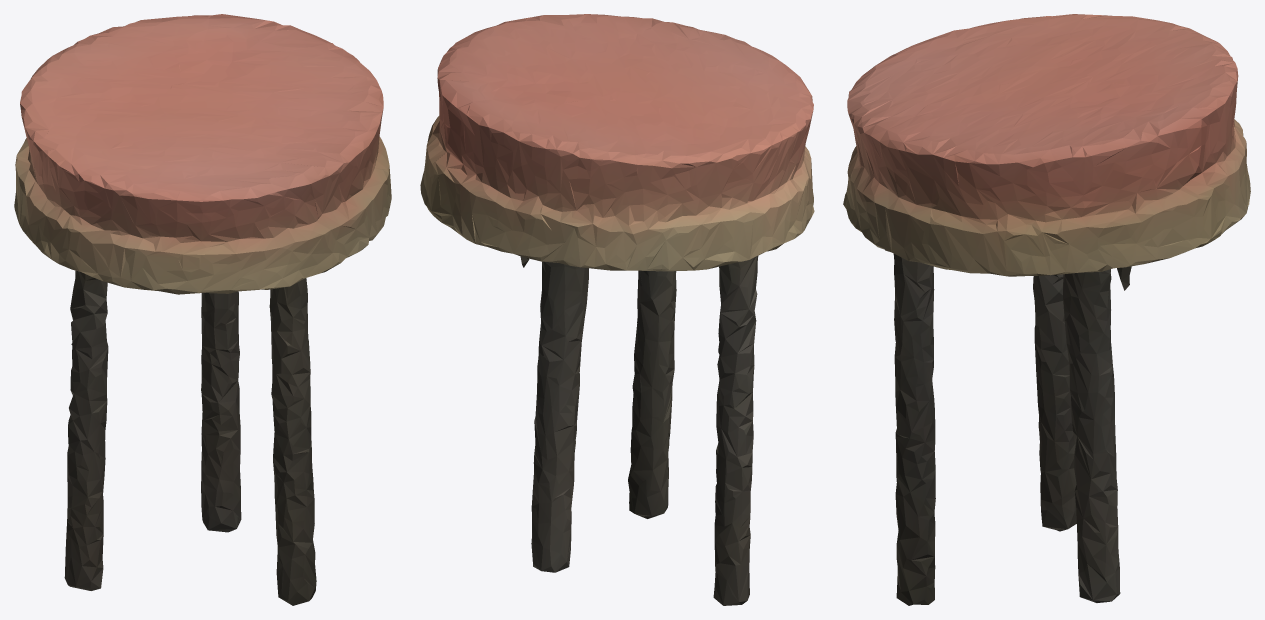
The model's file is cafe-5.glb.
3 renders of one model, left to right at view 1: azimuth 30°, elevation 25°; view 2: azimuth 150°, elevation 25°; view 3: azimuth 270°, elevation 25°, orthographic. The views are drawn at different scales.
Visible parts, largest first — view 1: geometry_0; view 2: geometry_0; view 3: geometry_0.
Boxes of the visible parts, bbox=[...] form: geometry_0: bbox=[14, 14, 391, 605]; geometry_0: bbox=[420, 14, 814, 605]; geometry_0: bbox=[843, 14, 1250, 605].
Bounding box in the file's own units: 0.7428 × 1.03 × 0.7365.
